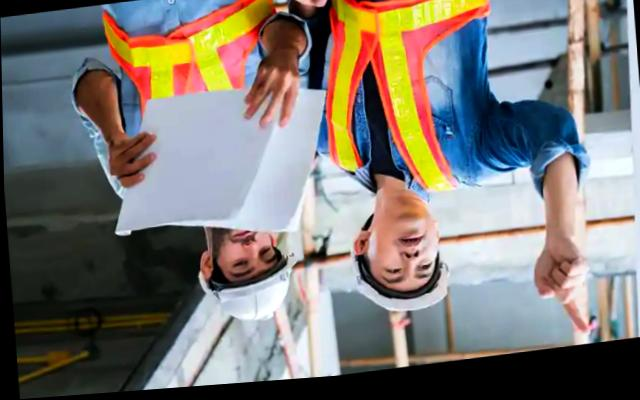helmet: (183, 260, 300, 332), (343, 257, 458, 327)
vest: (309, 0, 515, 215), (87, 0, 282, 120)
